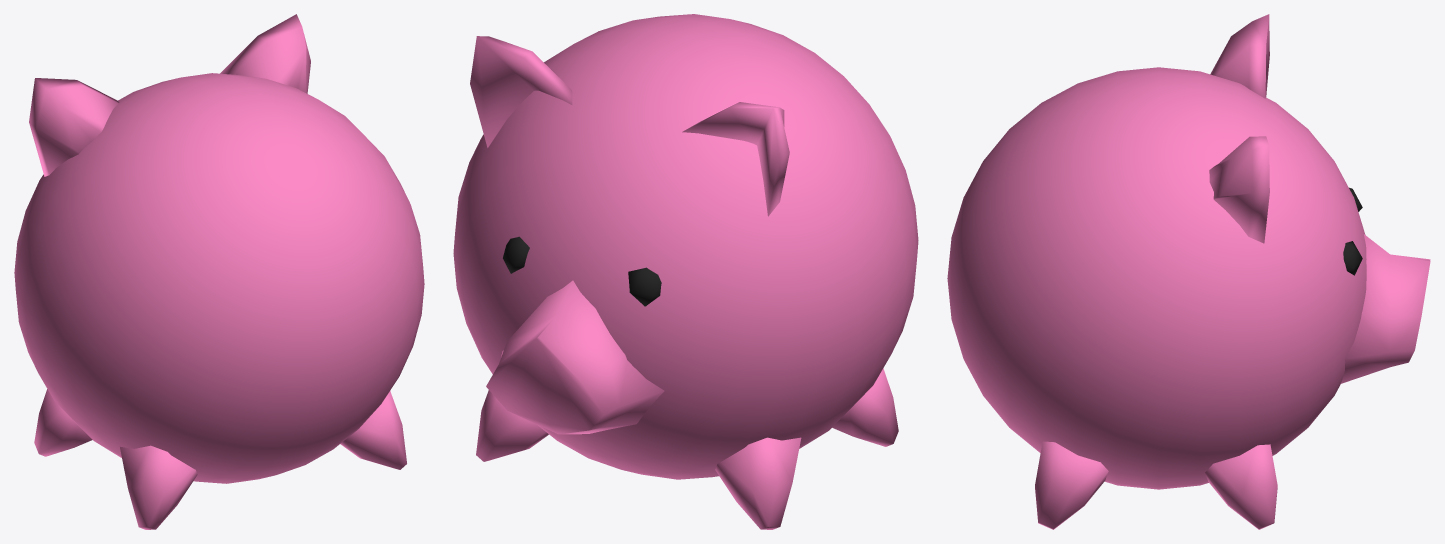
Rendered from SM_Pig_Generic.fbx.
The picture shows the model from 3 angles, left to right: view 1: azimuth 30°, elevation 25°; view 2: azimuth 150°, elevation 25°; view 3: azimuth 270°, elevation 25°; orthographic projection. The views are drawn at different scales.
Parts seen in each view (by area): view 1: SM_Pig_Generic; view 2: SM_Pig_Generic; view 3: SM_Pig_Generic.
Part boxes in pixels (<box>): SM_Pig_Generic: <box>14,14,424,529</box>; SM_Pig_Generic: <box>453,14,918,529</box>; SM_Pig_Generic: <box>947,14,1430,529</box>.
Size of the model in its own units: 150 by 153 by 171.
